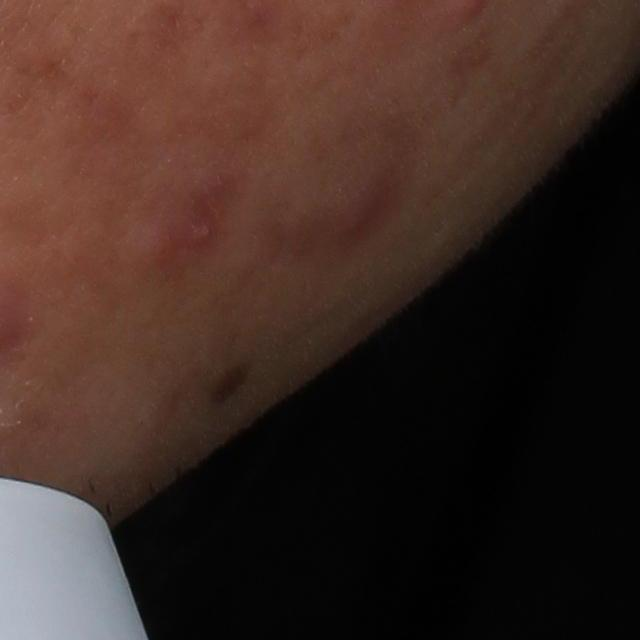nevus: (211, 359, 254, 405)
papule: (128, 220, 188, 273)
